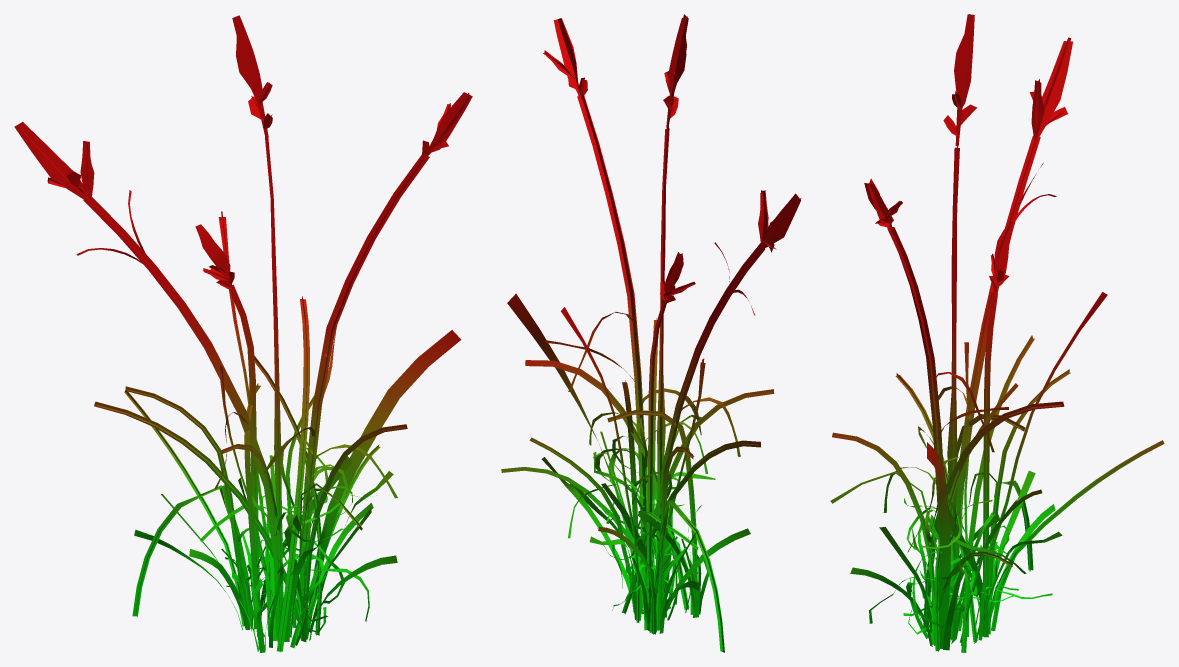
File: Var2_LOD1.fbx
The picture shows the model from 3 angles, left to right: view 1: azimuth 30°, elevation 25°; view 2: azimuth 150°, elevation 25°; view 3: azimuth 270°, elevation 25°; orthographic projection. The views are drawn at different scales.
Parts seen in each view (by area): view 1: _4386_Var2_LOD1; view 2: _4386_Var2_LOD1; view 3: _4386_Var2_LOD1.
Part boxes in pixels (box(x1,y1,x2,y2)): _4386_Var2_LOD1: box(14, 15, 472, 652); _4386_Var2_LOD1: box(501, 14, 801, 652); _4386_Var2_LOD1: box(830, 14, 1164, 652).
Size of the model in its own units: 93.01 by 150 by 74.22.
